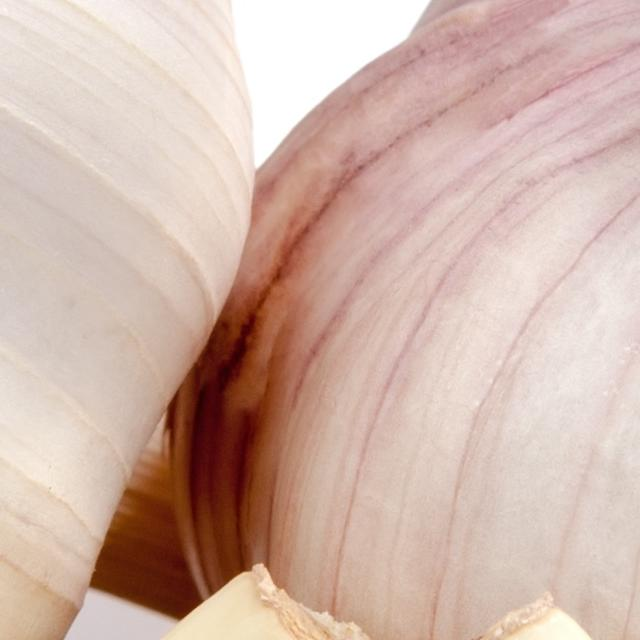garlic: (215, 0, 640, 615), (0, 0, 218, 640)
